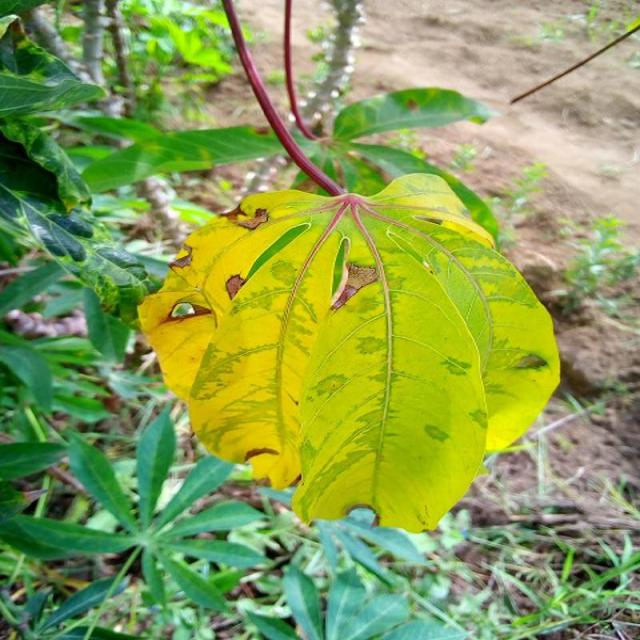cassava leaf: (137, 170, 561, 534)
